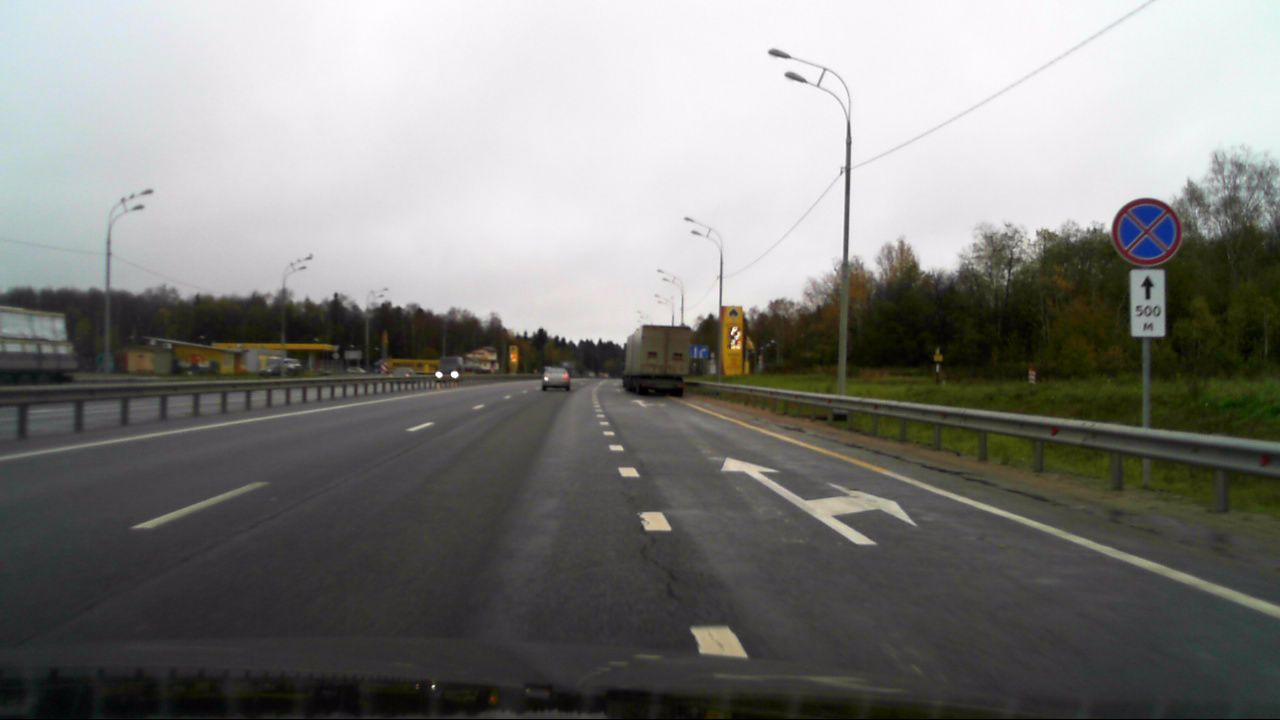No Parking: (1114, 198, 1184, 266)
